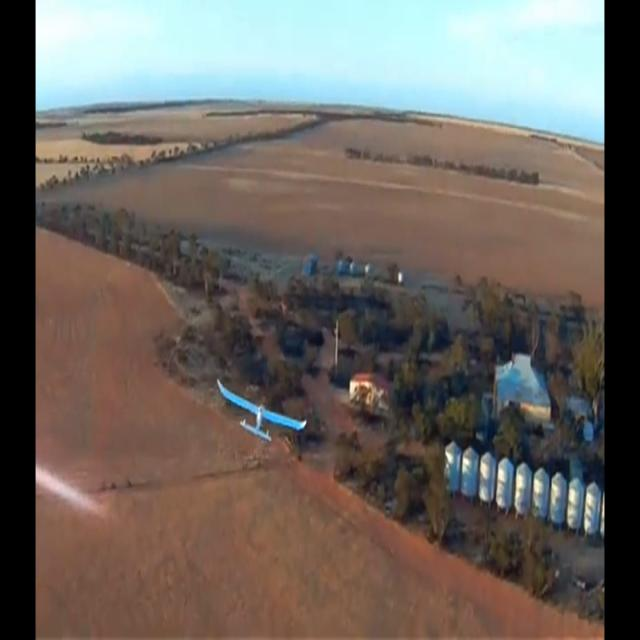iha: (249, 408, 275, 410)
